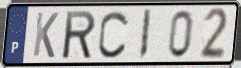0: (166, 8, 196, 61)
2: (199, 6, 230, 62)
C: (96, 9, 131, 61)
I: (137, 8, 153, 61)
K: (31, 10, 60, 60)
R: (62, 9, 98, 61)
